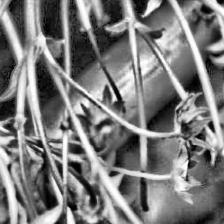Gray Mold: (157, 91, 214, 154)
